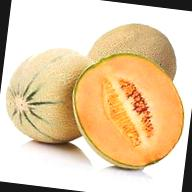Melon Ripe: (65, 45, 192, 176), (0, 39, 98, 148)
